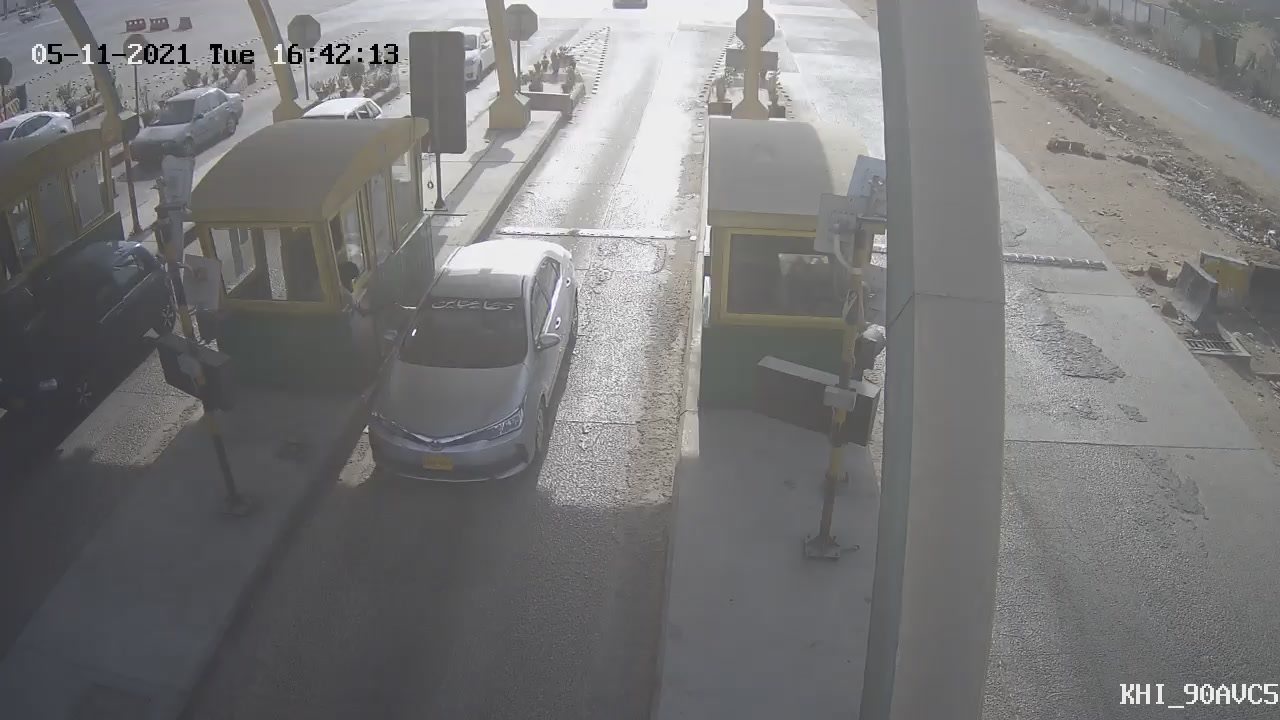F1: (346, 224, 600, 505)
